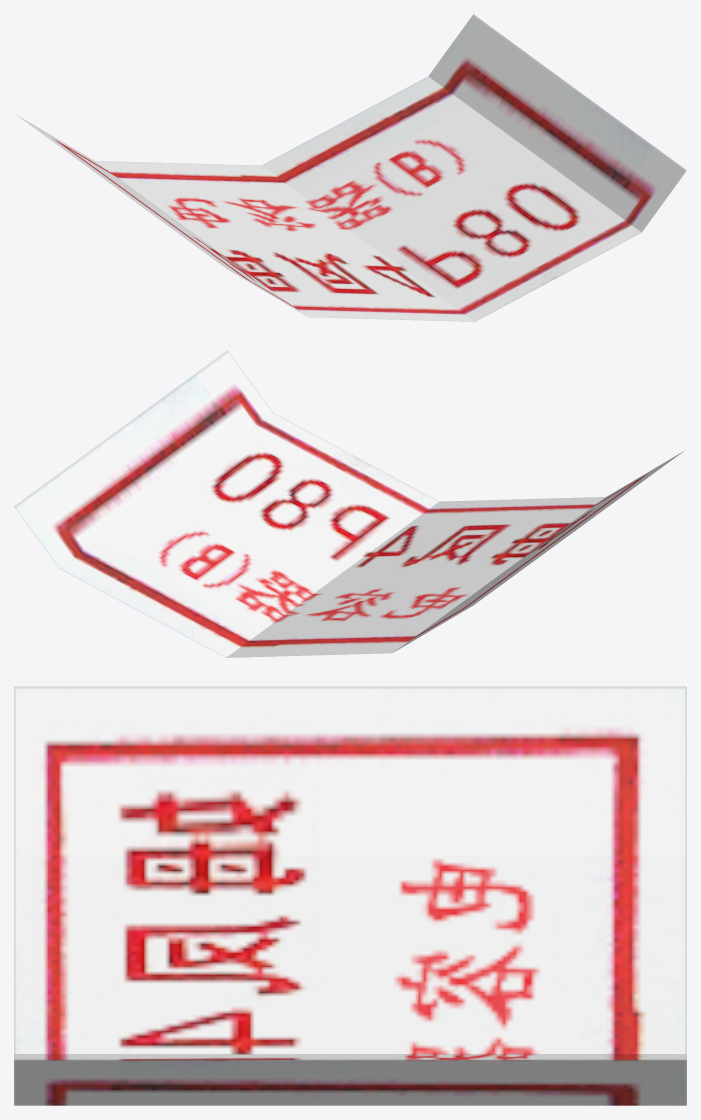
The model's file is mp-01030-geode.glb.
The picture shows the model from 3 angles, top to bottom: view 1: azimuth 30°, elevation 25°; view 2: azimuth 150°, elevation 25°; view 3: azimuth 270°, elevation 25°; orthographic projection. The views are drawn at different scales.
Visible parts, largest first — view 1: Node; view 2: Node; view 3: Node.
Part boxes in pixels (box(x1,y1,x2,y2)): Node: box(17, 14, 686, 321); Node: box(14, 350, 683, 657); Node: box(14, 686, 686, 1105).
Size of the model in its own units: 0.2639 by 0.0619 by 0.2126.
1 material, 1 textured.
